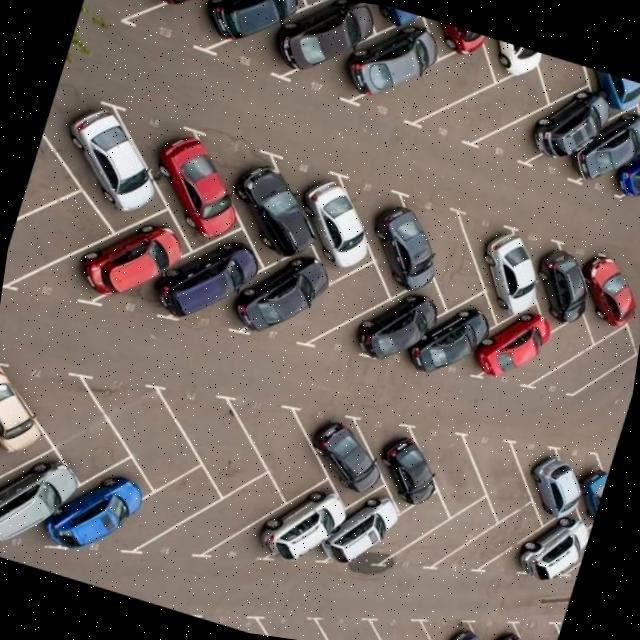space-empty: (80, 372, 222, 494), (275, 246, 407, 372), (168, 458, 300, 580), (208, 391, 344, 505), (109, 450, 237, 568), (0, 182, 116, 312), (139, 380, 274, 490), (405, 194, 514, 310), (39, 366, 143, 484), (378, 44, 499, 141), (419, 66, 541, 157), (402, 412, 494, 515), (408, 486, 502, 586), (454, 495, 547, 594), (456, 422, 544, 524), (364, 490, 456, 582), (518, 311, 604, 406), (549, 324, 639, 407), (546, 510, 594, 594), (207, 606, 297, 640), (364, 607, 446, 640), (261, 612, 348, 640), (317, 613, 402, 640), (505, 605, 564, 640)
space-occupied: (38, 98, 178, 220), (137, 115, 265, 244), (310, 19, 450, 118), (78, 206, 204, 316), (344, 182, 464, 297), (224, 237, 338, 353), (488, 78, 606, 184), (224, 150, 333, 262), (251, 472, 354, 586), (294, 175, 400, 284), (154, 233, 266, 336), (251, 0, 384, 84), (397, 284, 502, 389), (346, 278, 447, 386), (286, 396, 395, 496), (45, 461, 154, 556), (0, 442, 82, 567), (466, 206, 560, 314), (550, 100, 640, 198), (359, 411, 450, 506), (464, 300, 556, 393), (0, 349, 65, 473), (516, 233, 596, 332), (509, 434, 597, 523), (173, 0, 304, 59), (321, 480, 402, 572), (564, 244, 640, 342), (507, 502, 588, 592), (553, 442, 614, 524), (99, 0, 241, 30), (599, 118, 640, 220), (419, 607, 497, 640), (467, 607, 545, 640), (0, 438, 10, 553)
